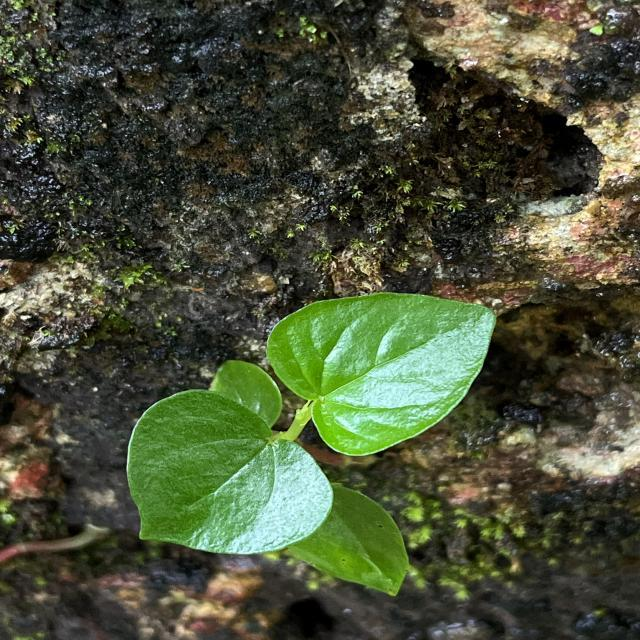Peperomia pellucida: (263, 291, 498, 458), (126, 388, 336, 557)
